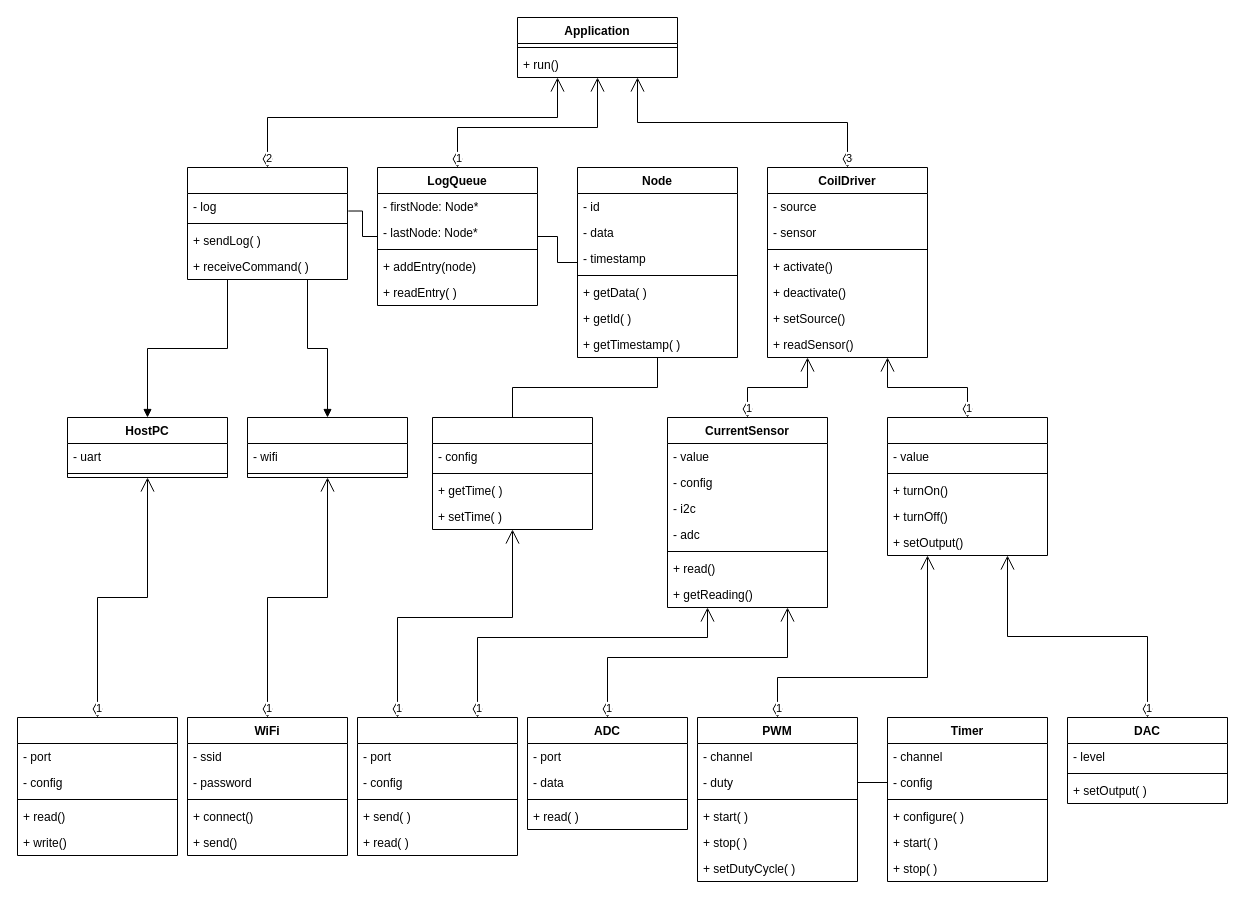
Some shapes in this 1245 by 902 pixel diagram are drawn without their labels. Here are the shapes that lost their labels. From the top down, the box of each, then its label:
(186, 166, 348, 280): Host
(246, 416, 408, 478): HostSmartphone
(432, 416, 592, 530): RealTimeClock
(886, 416, 1048, 556): CurrentSource
(16, 716, 178, 856): UART
(356, 716, 518, 856): I2C
